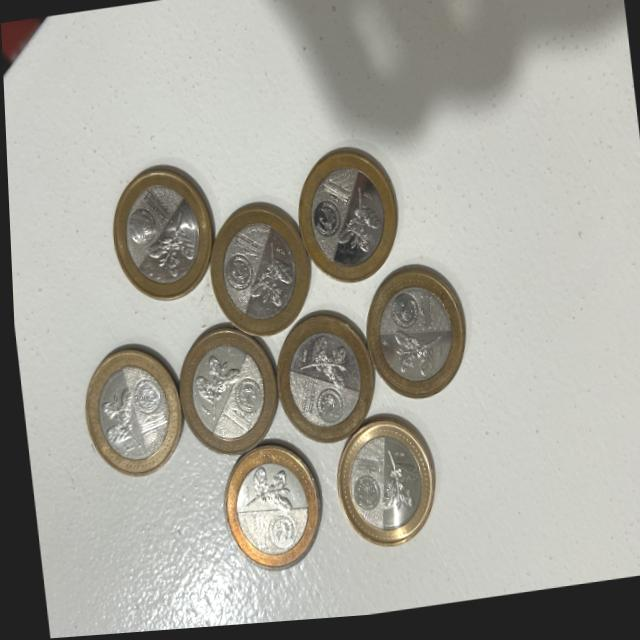20_New_Back: (369, 442, 418, 532), (328, 193, 381, 265)
